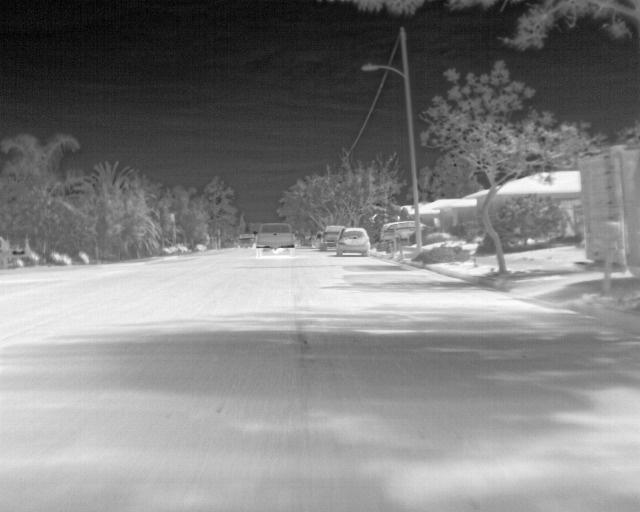car: (254, 222, 294, 257), (335, 227, 370, 257), (378, 218, 416, 244), (315, 224, 344, 251), (239, 234, 254, 247)
